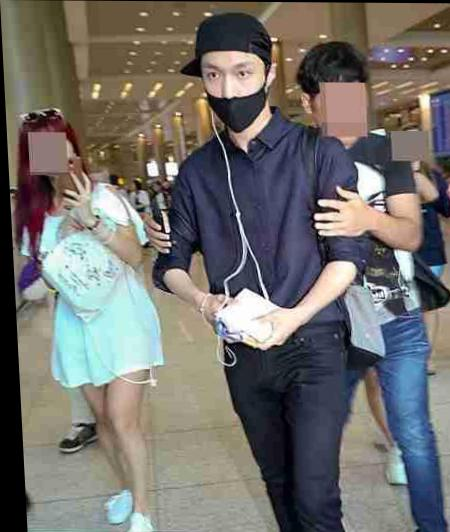WRONG: (201, 50, 273, 133)
